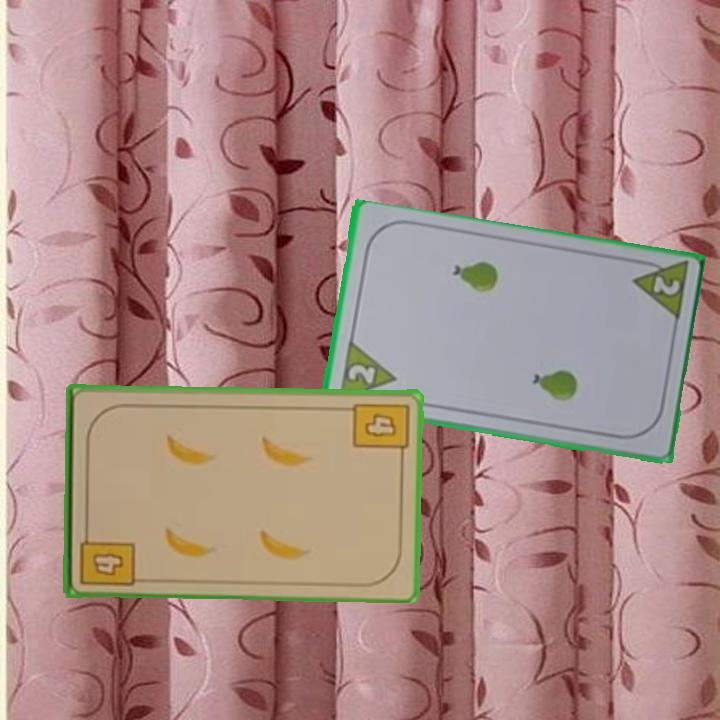2p: (628, 255, 691, 325), (344, 361, 379, 387)
4b: (75, 524, 137, 590), (349, 399, 411, 462)
